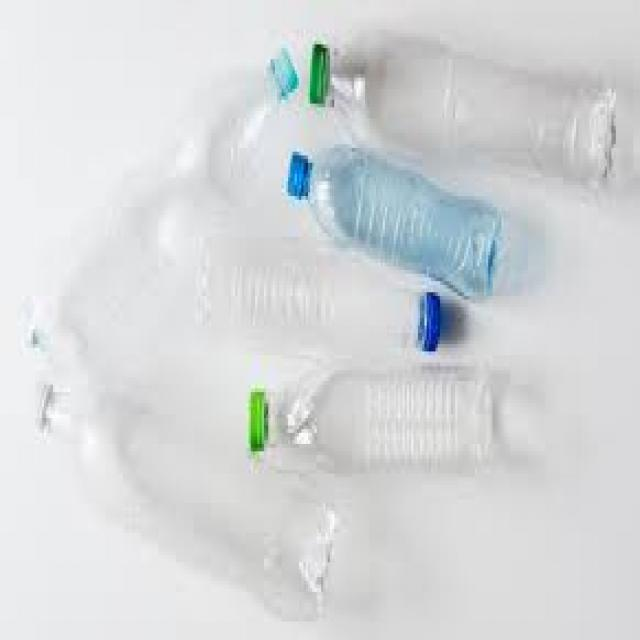plastic_bottle: (26, 46, 302, 385), (32, 381, 340, 621), (308, 25, 616, 194), (285, 146, 508, 306), (188, 234, 444, 359), (248, 370, 496, 479)
